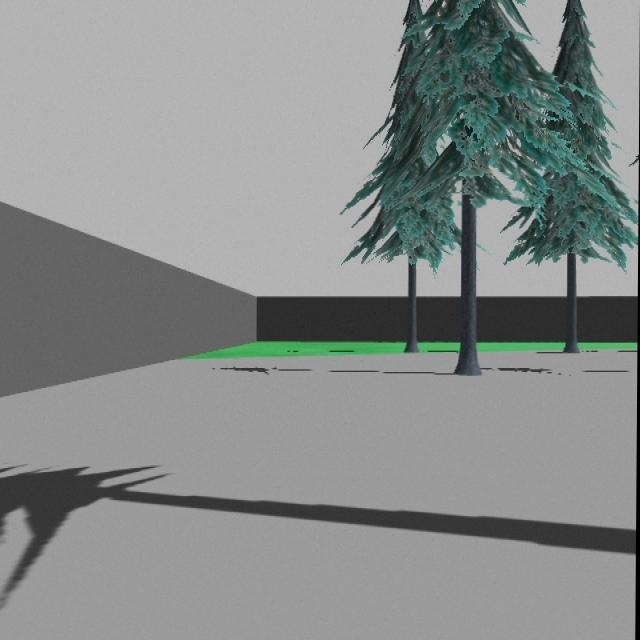tree: (347, 0, 571, 377)
